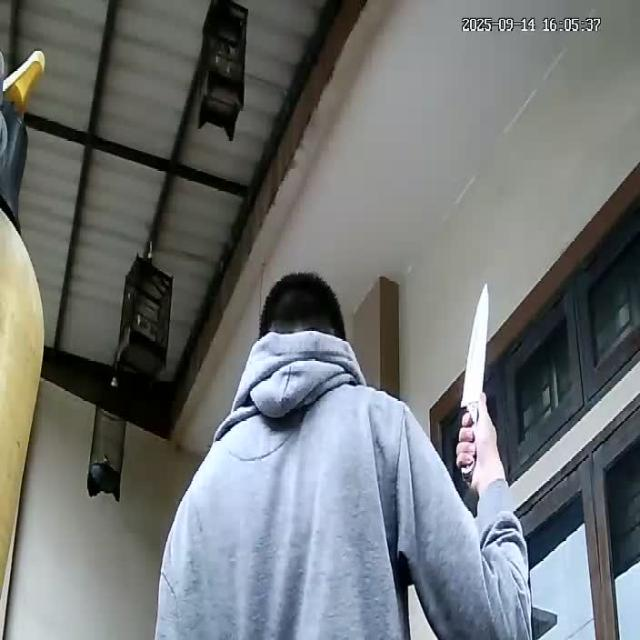senjata_tajam: (457, 282, 490, 411)
